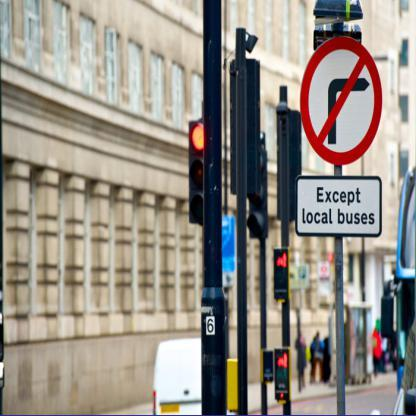Red Light: (186, 121, 210, 223)
